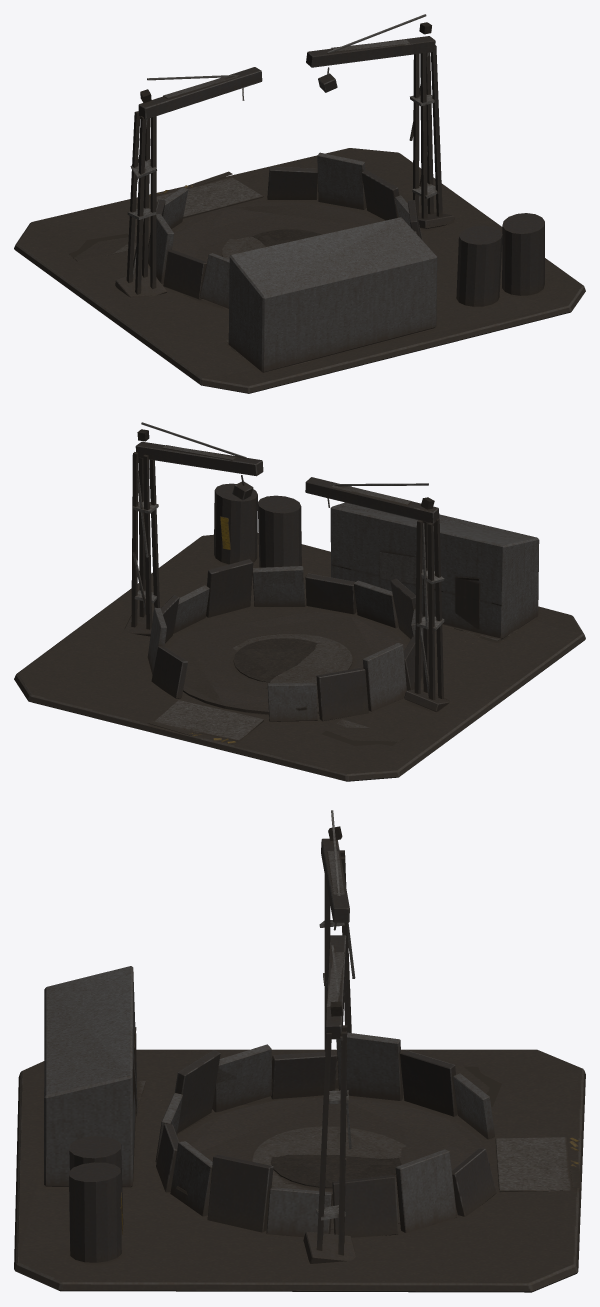
File: chs_botlab_wreck.fbx
3 renders of one model, top to bottom at view 1: azimuth 30°, elevation 25°; view 2: azimuth 150°, elevation 25°; view 3: azimuth 270°, elevation 25°, orthographic. The views are drawn at different scales.
Visible parts, largest first — view 1: base_bar; view 2: base_bar; view 3: base_bar.
Part boxes in pixels (x1,y1,x2,y2): base_bar: (14,14,585,393); base_bar: (14,422,585,781); base_bar: (14,810,585,1292).
Size of the model in its own units: 3116 by 1887 by 3152.
2 materials, 2 textured.
